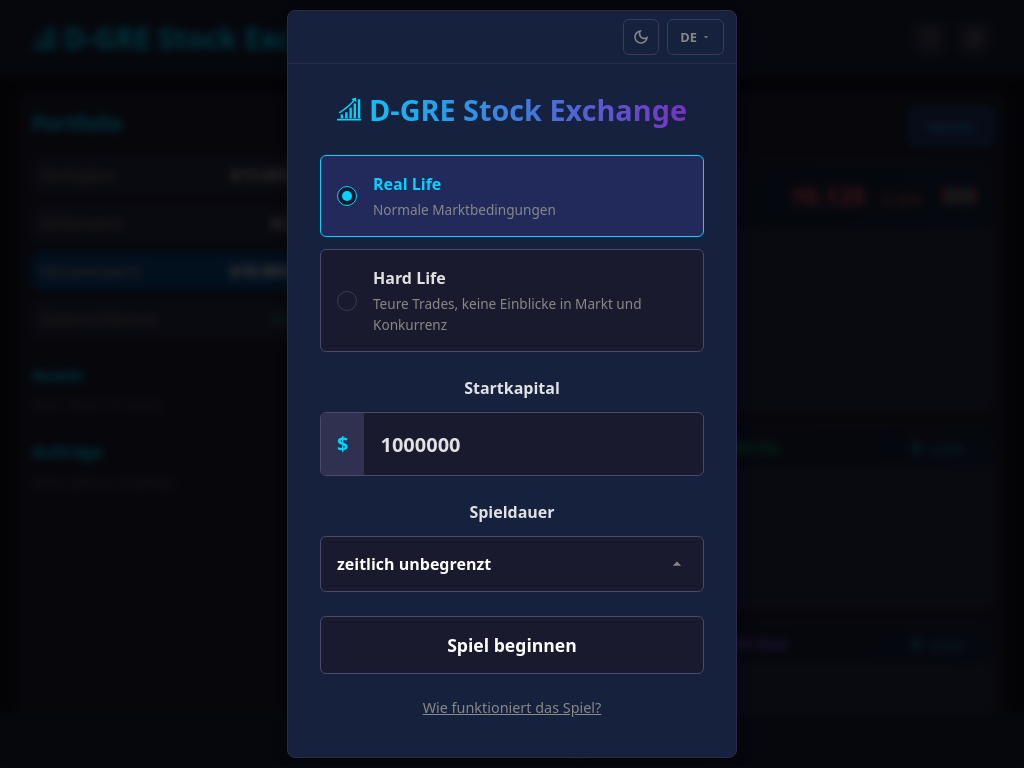
Scenario: App › chart tab display › should display market index title and value when index tab is active
Step 1. Click the button "Spiel beginnen" → (512, 645), box [320, 616, 704, 674]
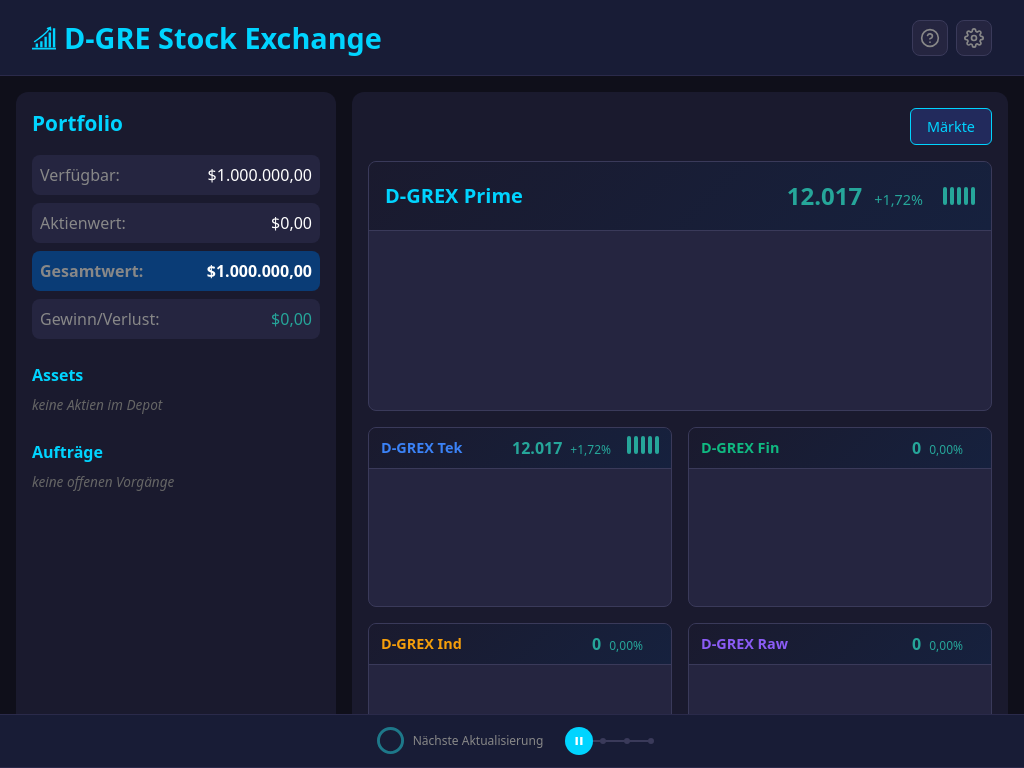
Expected: the heading "D-GREX Prime" is shown, [385, 181, 523, 211]
Now the element with class "game-start" is gone
